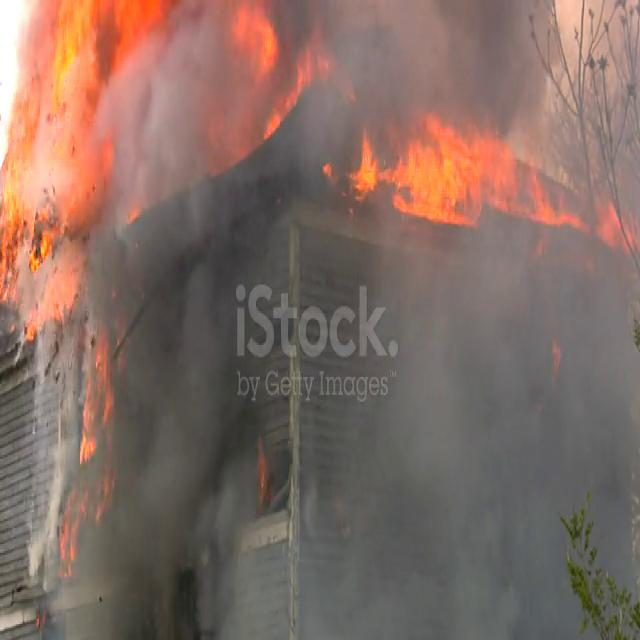fire: (0, 0, 194, 291), (355, 75, 549, 226), (52, 326, 112, 576), (259, 6, 359, 144)
smoke: (434, 231, 558, 571)
